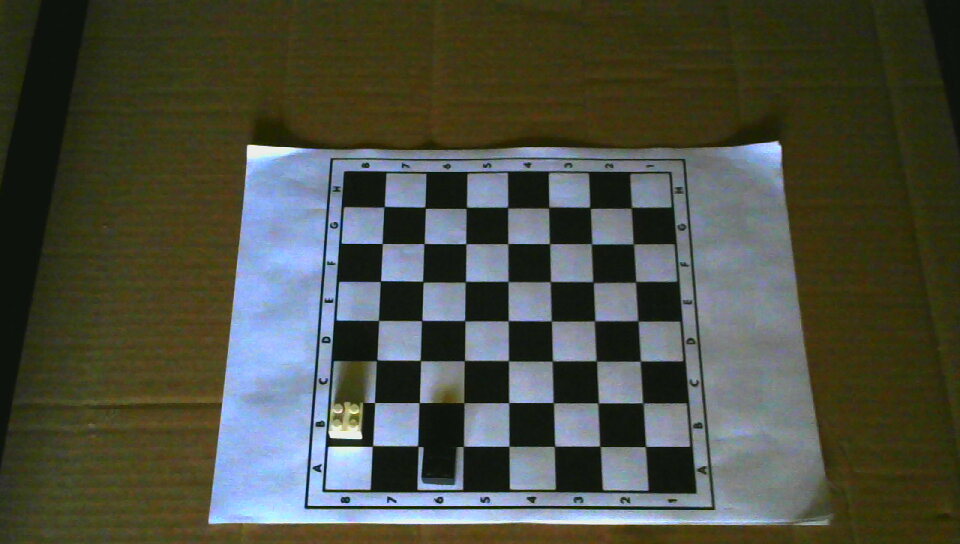bp: (421, 445, 457, 486)
wp: (327, 400, 363, 439)
